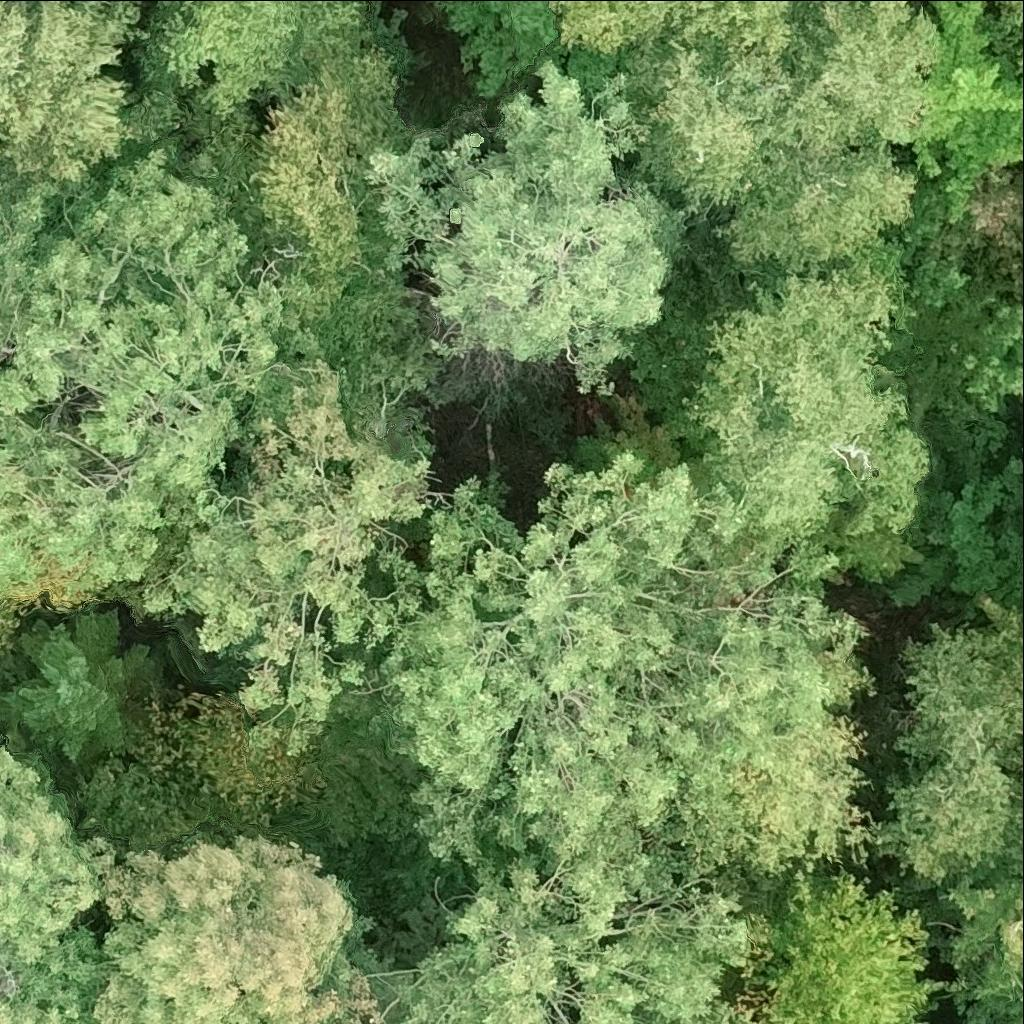crown: (383, 454, 879, 934), (0, 150, 326, 599), (144, 362, 428, 755), (367, 63, 686, 396), (351, 831, 752, 1023), (691, 258, 931, 555), (93, 836, 382, 1023), (250, 40, 405, 351), (876, 594, 1023, 885), (0, 735, 115, 1023), (545, 0, 844, 107), (633, 36, 799, 216), (744, 871, 936, 1023), (715, 138, 917, 277), (0, 0, 150, 183), (155, 0, 377, 117), (910, 0, 1023, 217), (785, 0, 941, 150), (4, 607, 149, 762), (937, 878, 1023, 1023), (431, 0, 560, 94), (0, 546, 104, 605), (67, 0, 139, 27), (702, 1006, 763, 1023), (1021, 563, 1023, 568)
